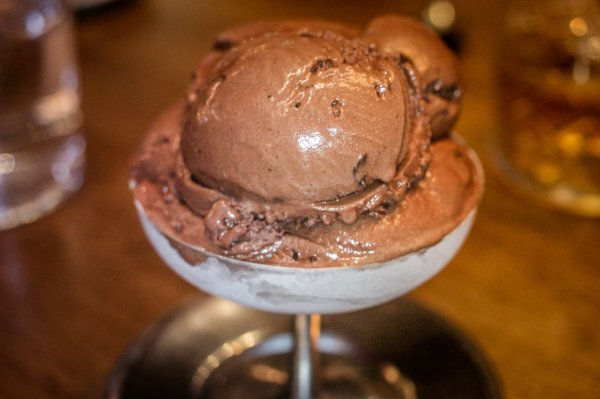soup: (166, 17, 483, 271)
